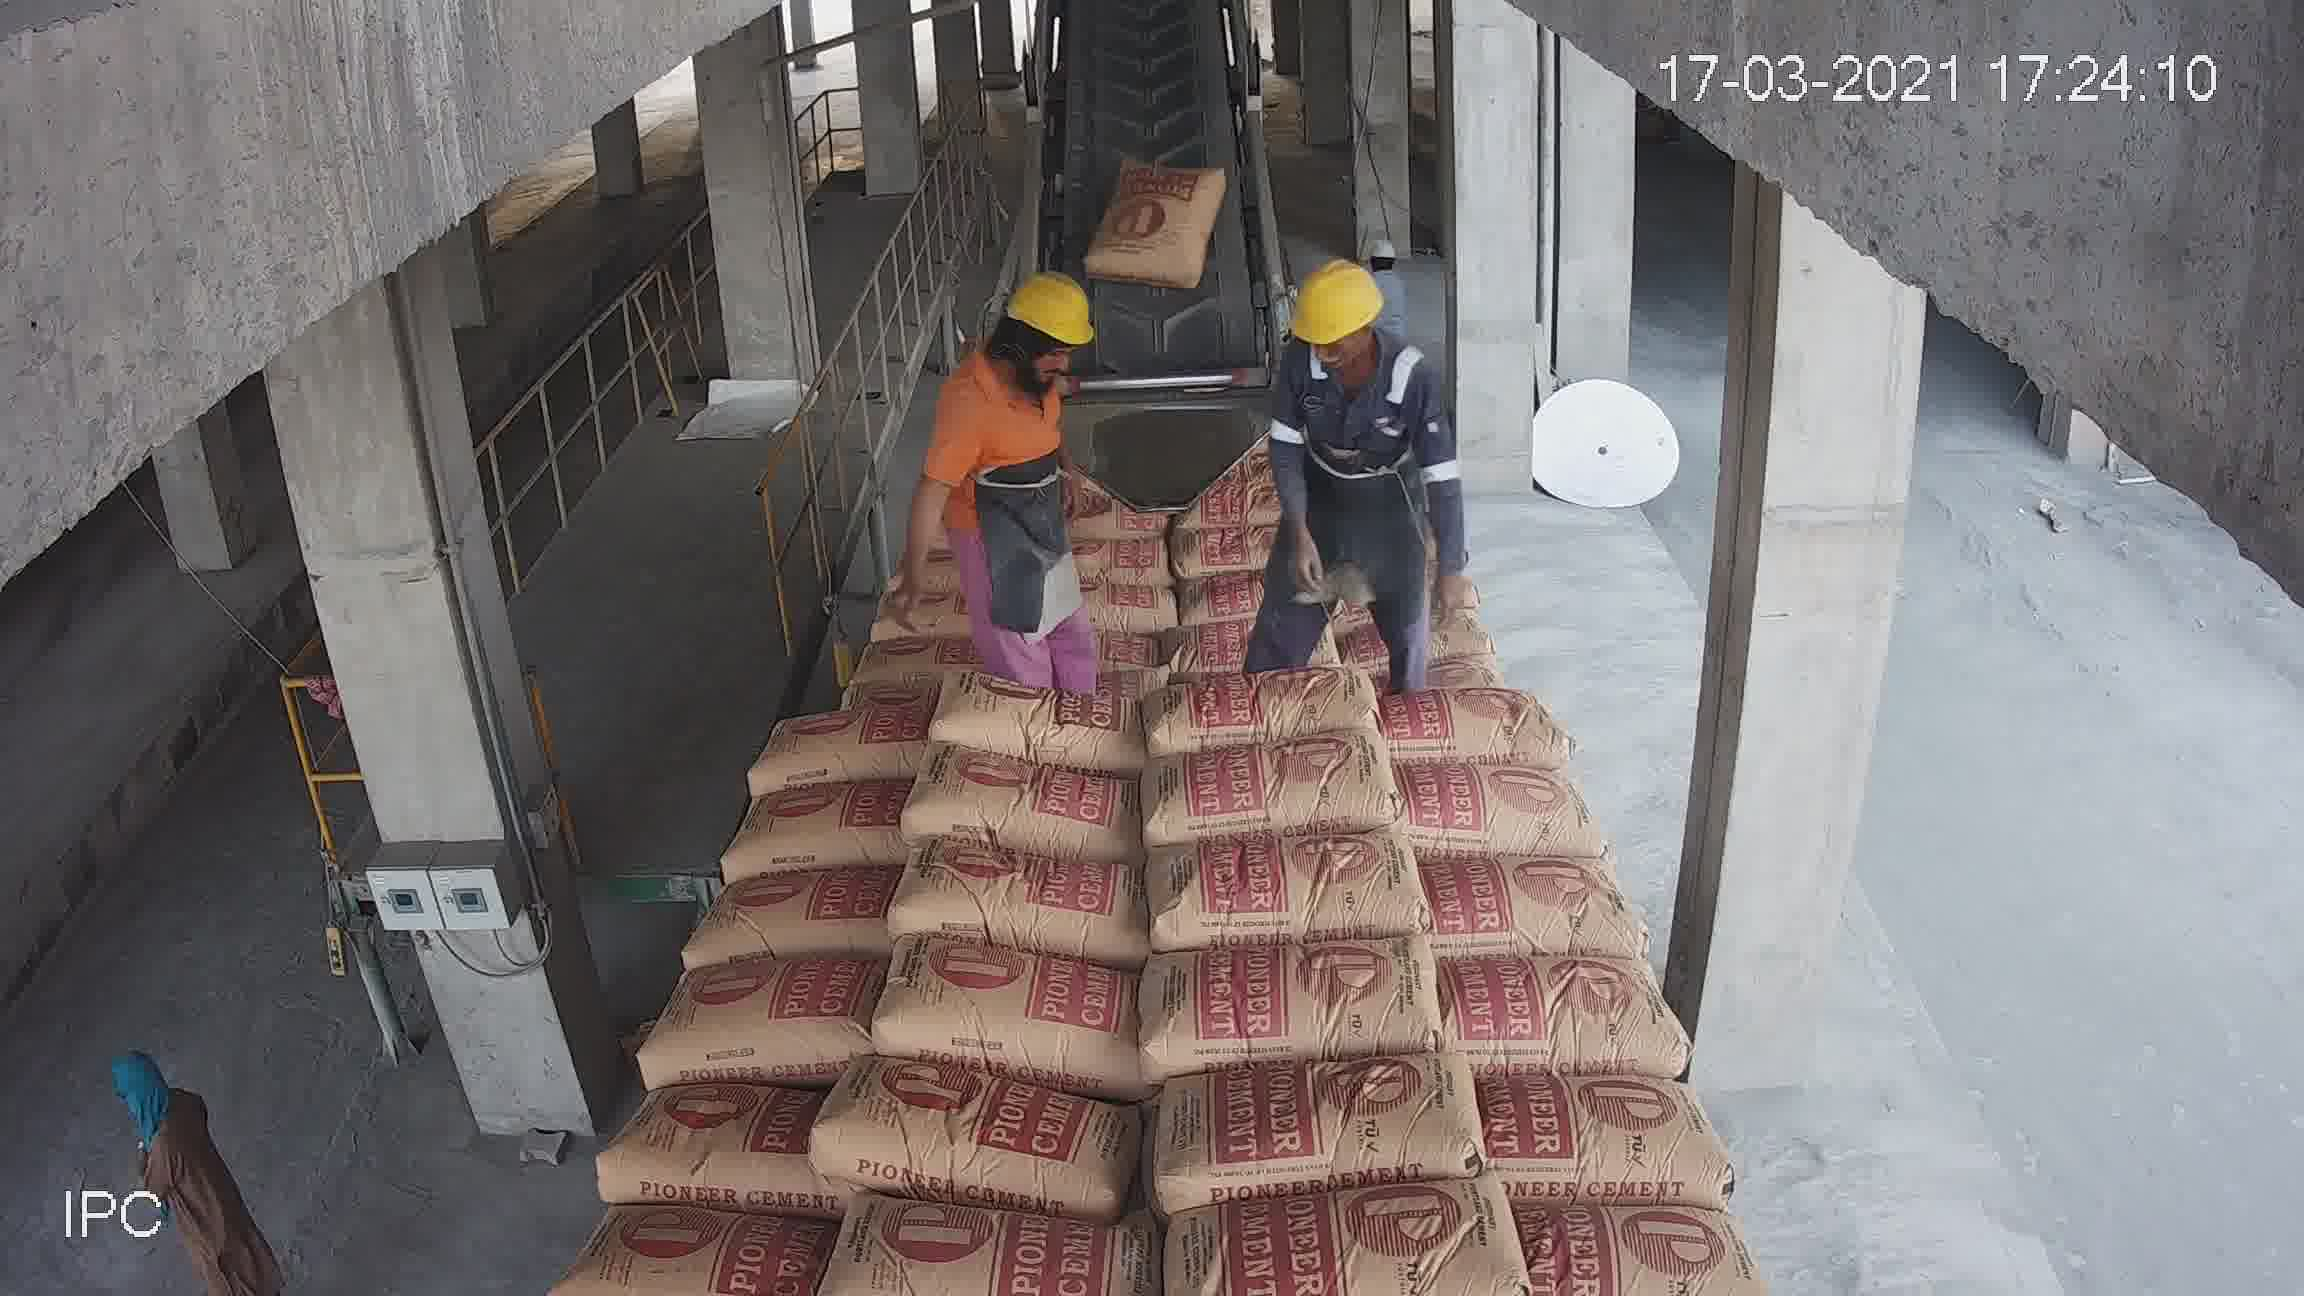bag: (983, 331, 1128, 424)
bag_h: (828, 1044, 1138, 1206), (1176, 1044, 1518, 1182), (1158, 1179, 1521, 1296), (1131, 818, 1427, 954), (1154, 934, 1454, 1057), (1138, 731, 1435, 850), (904, 932, 1149, 1059), (839, 1203, 1158, 1296), (636, 942, 862, 1073), (590, 1074, 826, 1195), (560, 1204, 869, 1296), (1141, 654, 1380, 763), (913, 848, 1154, 954), (904, 753, 1147, 858), (1503, 1070, 1704, 1193), (1457, 943, 1676, 1055), (660, 848, 867, 953), (930, 671, 1138, 775), (707, 764, 904, 873), (1434, 855, 1671, 943), (1404, 764, 1625, 855), (1182, 589, 1397, 680), (1548, 1193, 1737, 1296), (942, 608, 1171, 692), (748, 627, 956, 711), (1381, 685, 1573, 775), (1359, 563, 1559, 642), (745, 698, 929, 779), (1124, 491, 1340, 557), (981, 543, 1143, 620), (786, 581, 980, 644), (1155, 538, 1362, 597), (1381, 623, 1568, 687), (1176, 437, 1324, 513), (793, 533, 961, 590), (843, 487, 987, 552), (975, 514, 1139, 568), (1008, 459, 1131, 530), (1347, 513, 1487, 574), (1355, 468, 1480, 521)
belt: (1048, 9, 1258, 296)
